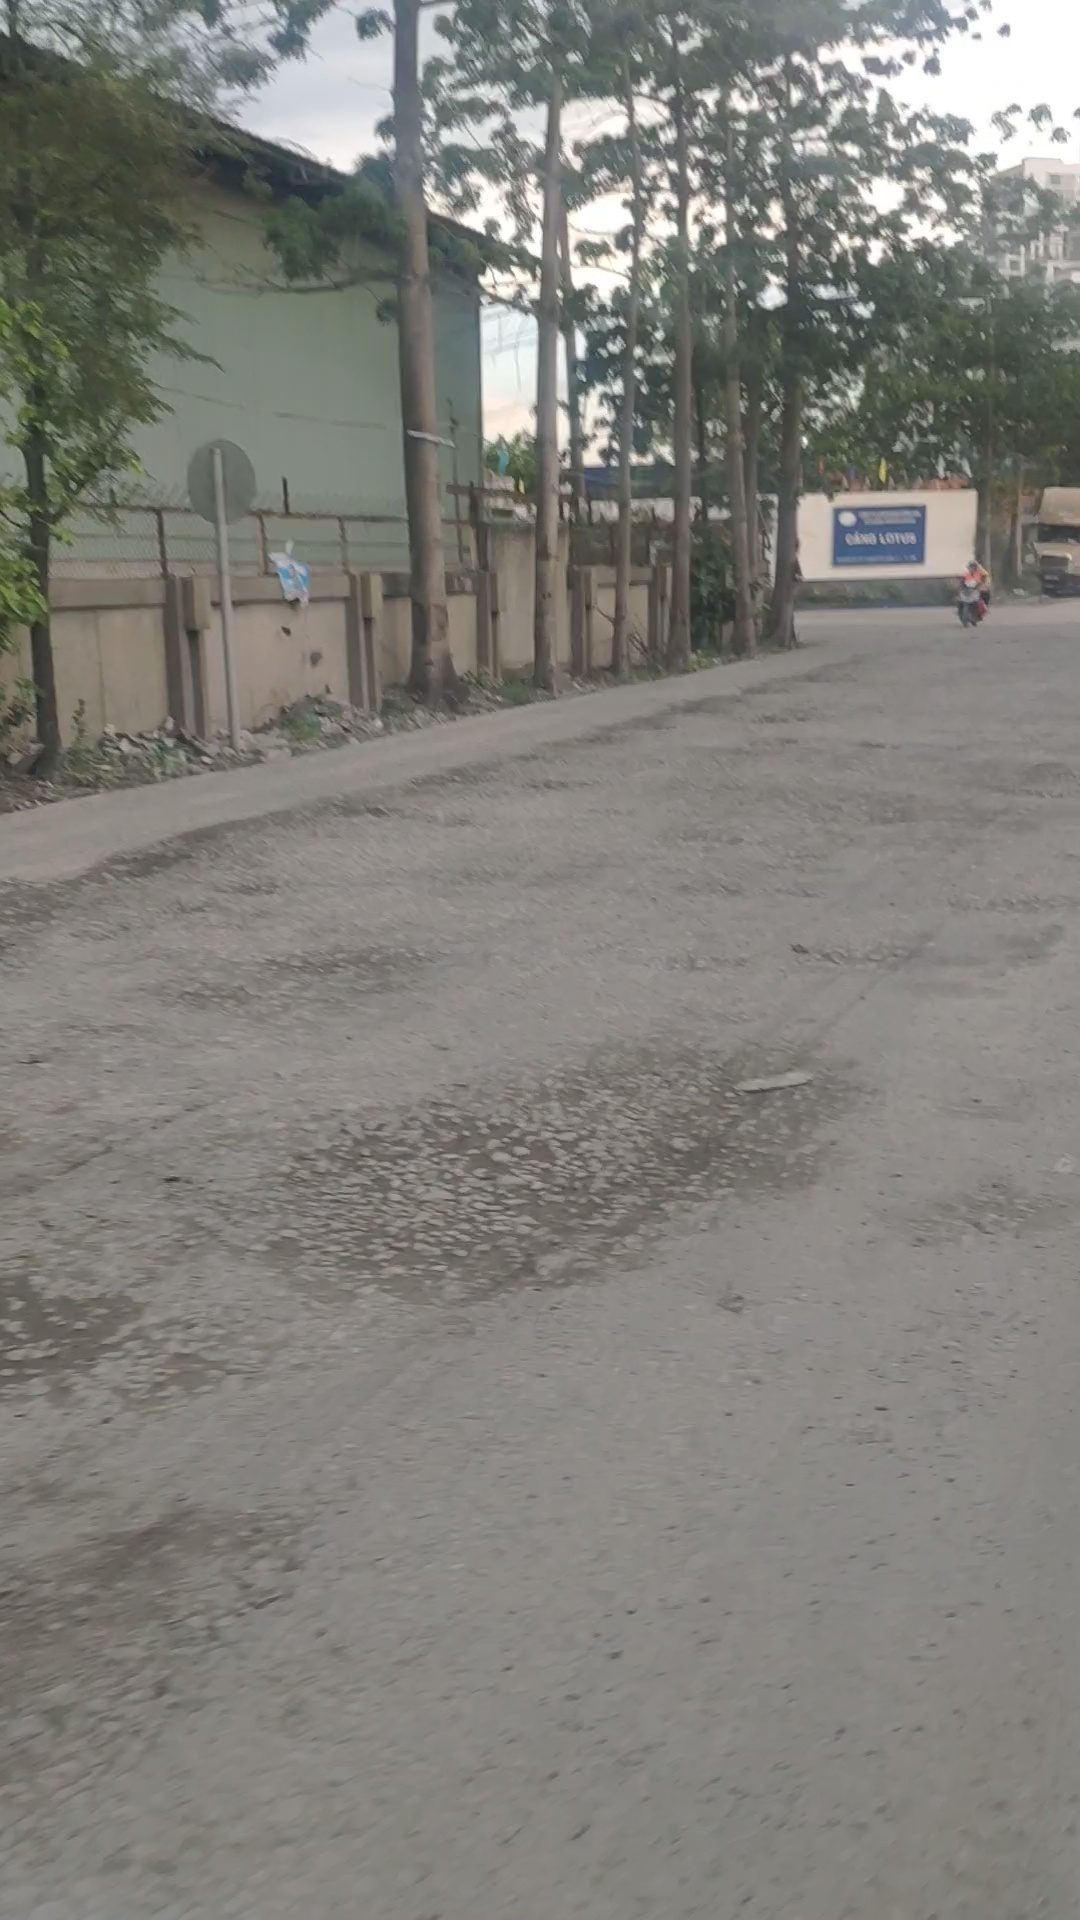hole: (204, 1013, 866, 1327), (769, 781, 955, 835), (918, 746, 1080, 803), (306, 793, 491, 833), (775, 930, 948, 973), (630, 938, 758, 975), (938, 887, 1080, 916), (657, 872, 754, 907), (513, 767, 607, 798), (407, 761, 502, 789), (651, 823, 756, 847), (535, 728, 632, 748), (742, 709, 819, 727)
